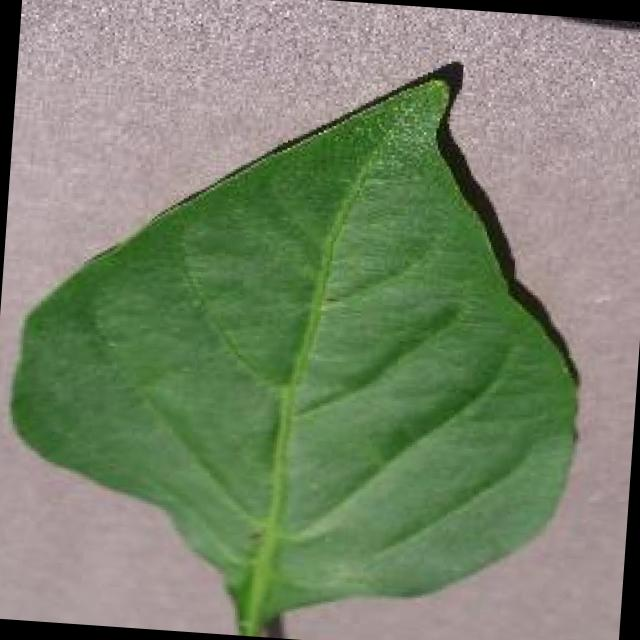Chilli_Healthy: (0, 29, 606, 640)
